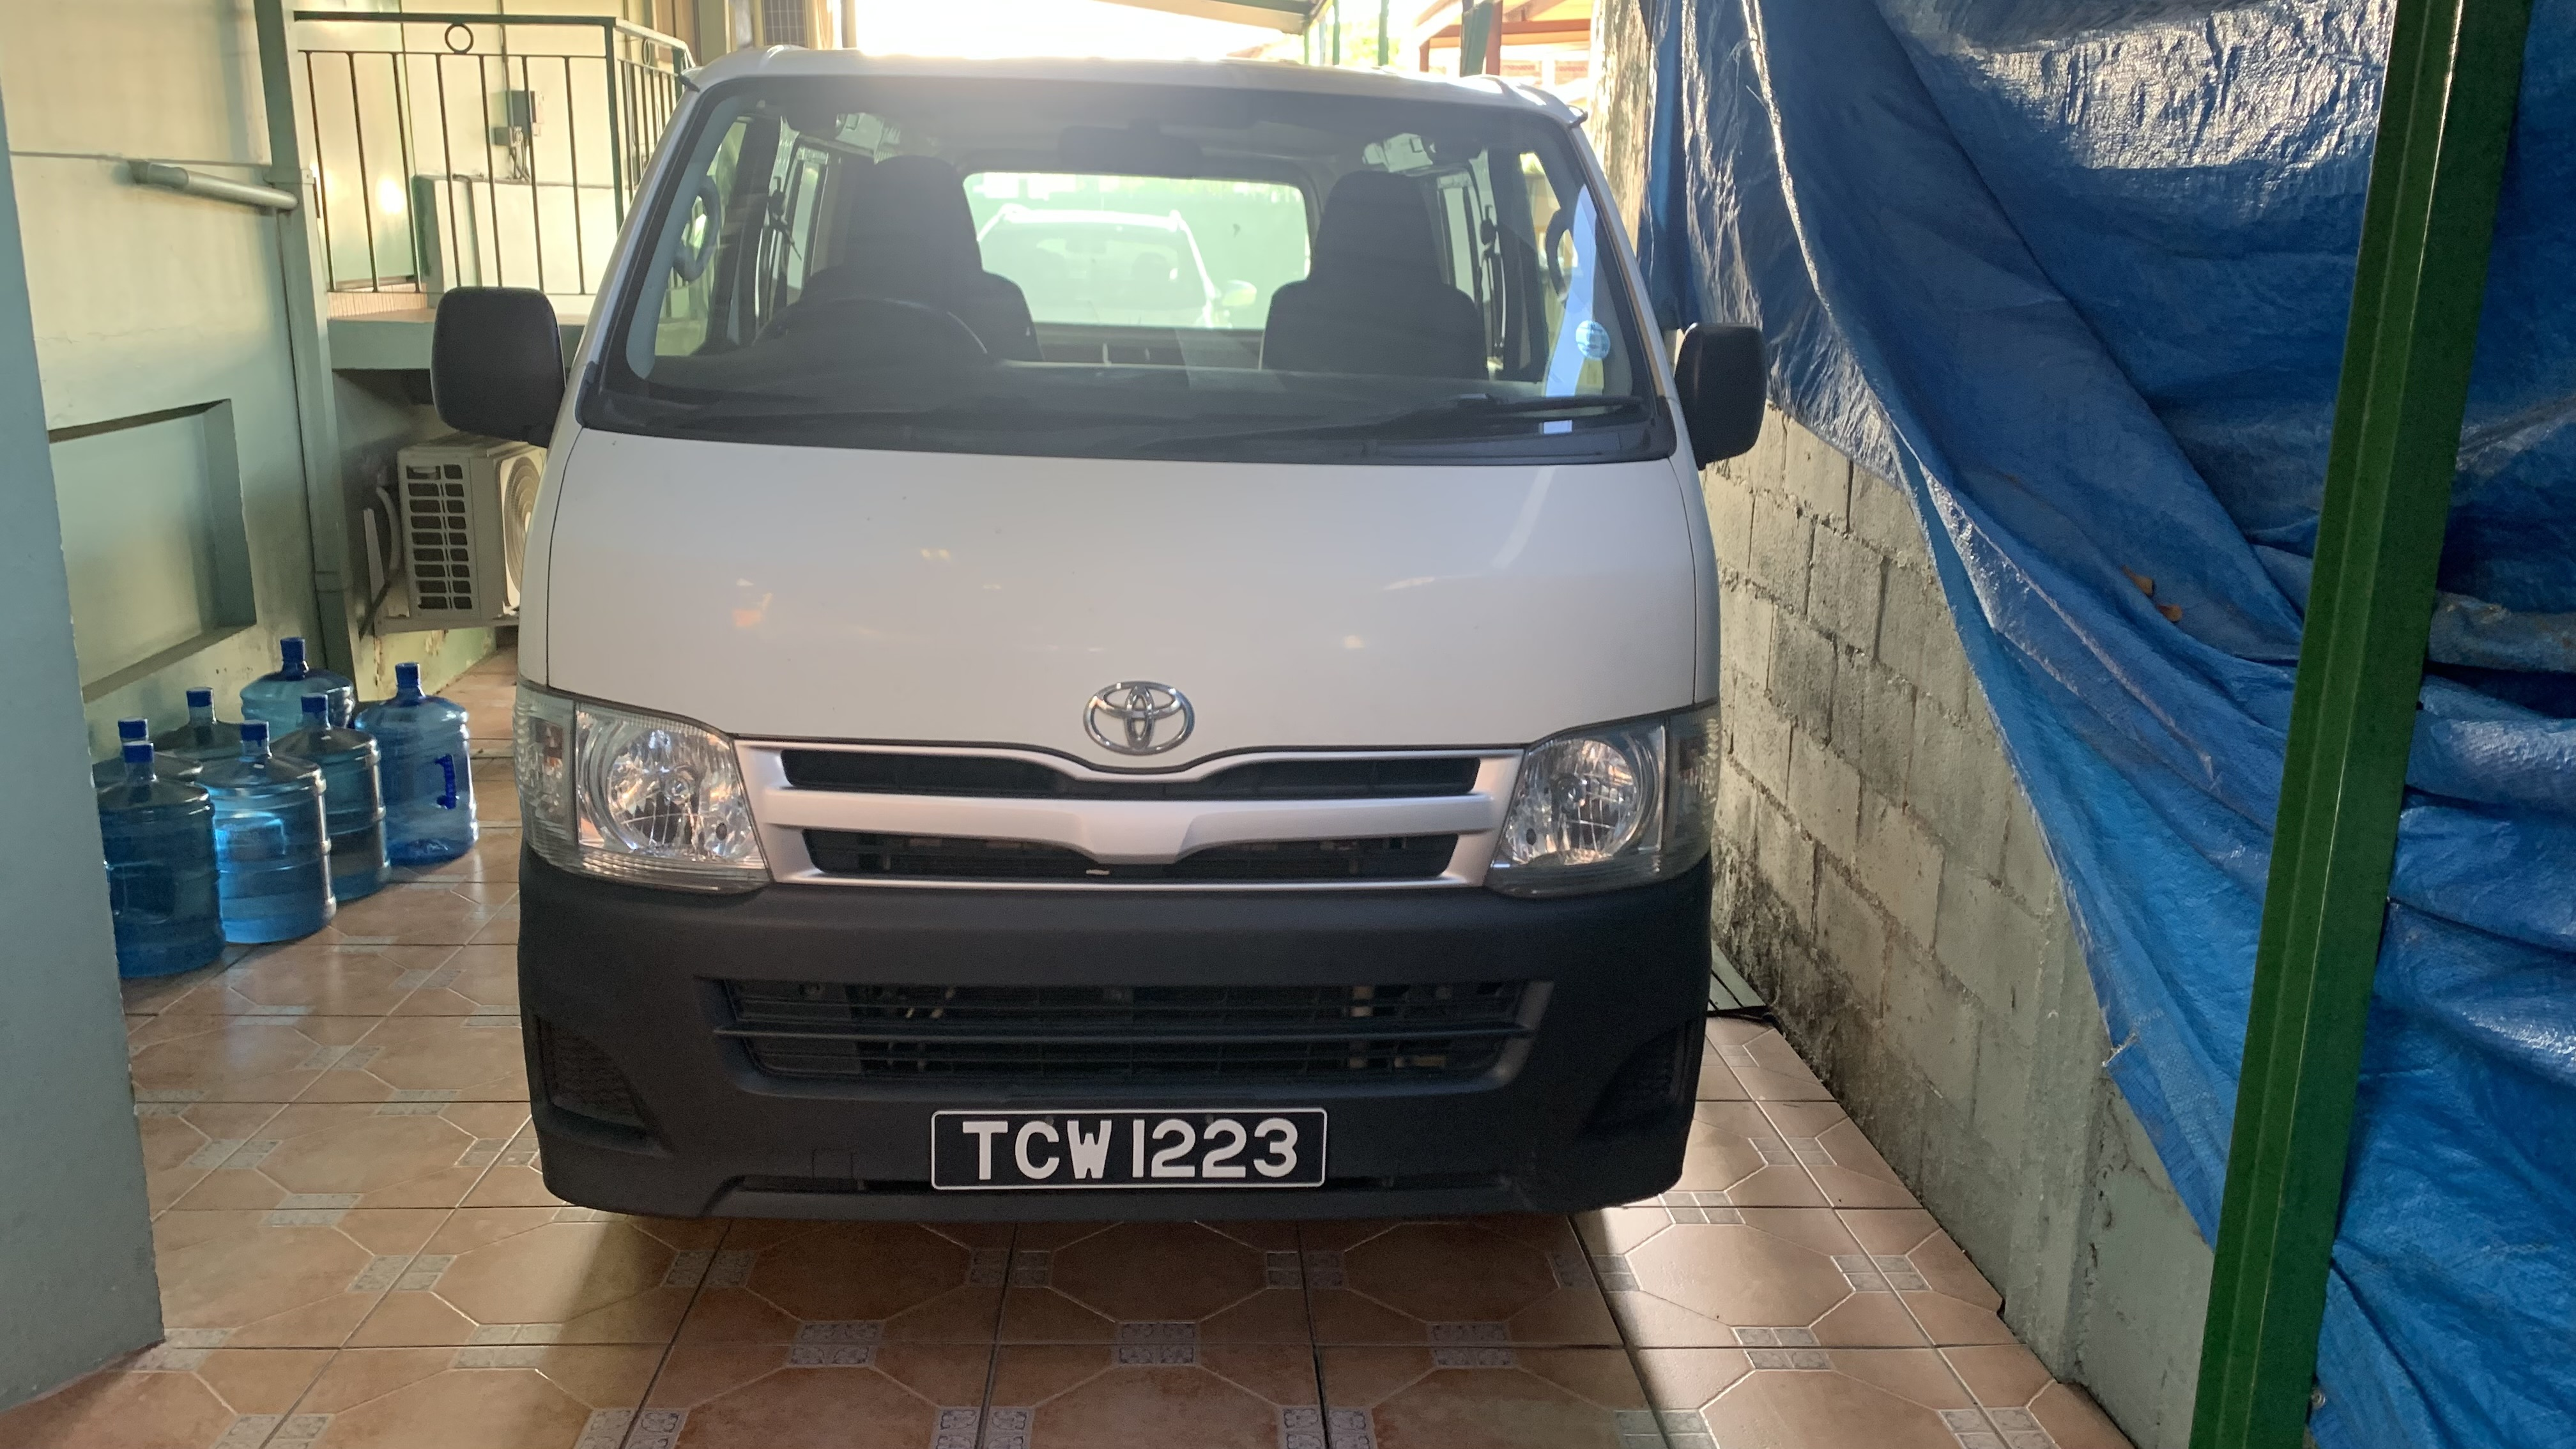License-Plate: (934, 1112, 1324, 1185)
